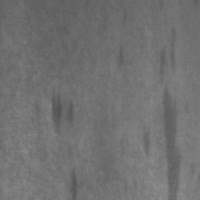inclusion: (160, 77, 184, 199), (49, 88, 77, 137), (157, 25, 179, 86), (65, 163, 84, 200), (138, 124, 154, 160), (113, 42, 130, 75)
